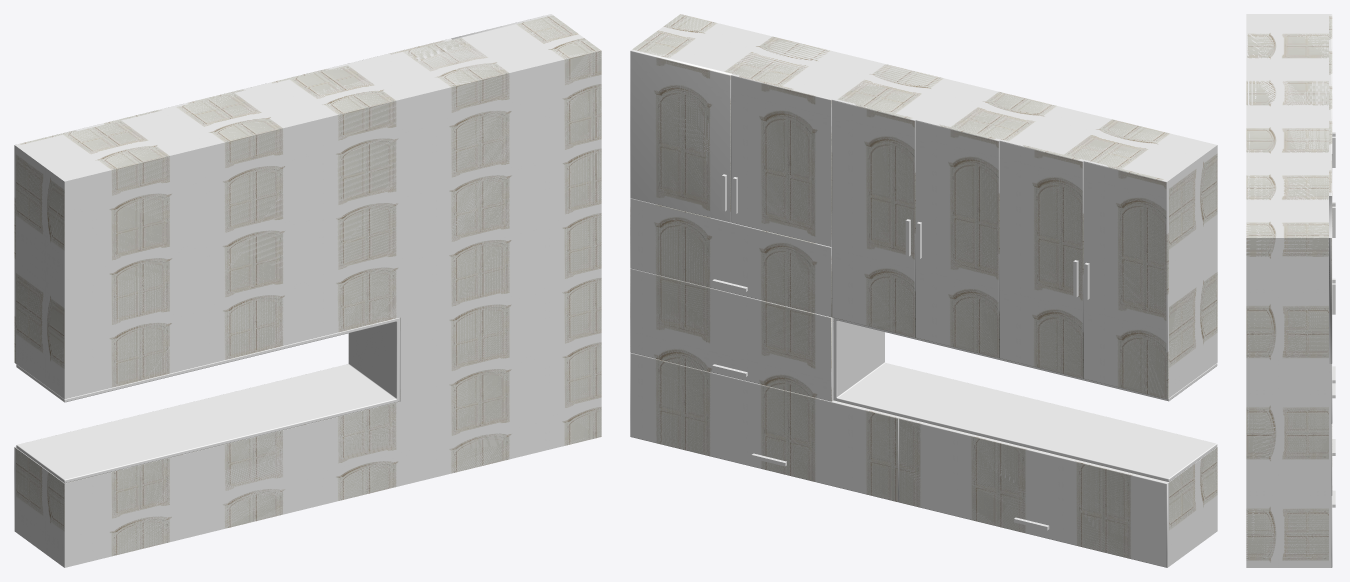
The picture shows the model from 3 angles, left to right: view 1: azimuth 30°, elevation 25°; view 2: azimuth 150°, elevation 25°; view 3: azimuth 270°, elevation 25°; orthographic projection. The views are drawn at different scales.
Visible parts, largest first — view 1: mesh7_mesh7-geometry, mesh8_mesh8-geometry, mesh13_mesh13-geometry; view 2: mesh13_mesh13-geometry, mesh7_mesh7-geometry, mesh2_mesh2-geometry, mesh1_mesh1-geometry, mesh8_mesh8-geometry, mesh3_mesh3-geometry, mesh4_mesh4-geometry, mesh5_mesh5-geometry, mesh6_mesh6-geometry, mesh11_mesh11-geometry; view 3: mesh7_mesh7-geometry, mesh11_mesh11-geometry, mesh4_mesh4-geometry, mesh13_mesh13-geometry, mesh1_mesh1-geometry, mesh3_mesh3-geometry, mesh6_mesh6-geometry, mesh5_mesh5-geometry.
Part boxes in pixels (bbox=[...]): mesh7_mesh7-geometry: bbox=[16, 15, 601, 567]; mesh8_mesh8-geometry: bbox=[16, 317, 399, 483]; mesh13_mesh13-geometry: bbox=[14, 63, 351, 363]; mesh13_mesh13-geometry: bbox=[831, 98, 1168, 399]; mesh7_mesh7-geometry: bbox=[632, 14, 1217, 566]; mesh2_mesh2-geometry: bbox=[899, 417, 1168, 567]; mesh1_mesh1-geometry: bbox=[630, 352, 899, 502]; mesh8_mesh8-geometry: bbox=[833, 318, 1217, 481]; mesh3_mesh3-geometry: bbox=[630, 268, 833, 401]; mesh4_mesh4-geometry: bbox=[630, 49, 732, 222]; mesh5_mesh5-geometry: bbox=[731, 74, 832, 246]; mesh6_mesh6-geometry: bbox=[630, 198, 831, 317]; mesh11_mesh11-geometry: bbox=[712, 174, 1089, 530]; mesh7_mesh7-geometry: bbox=[1246, 14, 1328, 567]; mesh11_mesh11-geometry: bbox=[1332, 132, 1335, 507]; mesh4_mesh4-geometry: bbox=[1329, 196, 1332, 363]; mesh13_mesh13-geometry: bbox=[1329, 14, 1332, 153]; mesh1_mesh1-geometry: bbox=[1329, 496, 1332, 567]; mesh3_mesh3-geometry: bbox=[1329, 424, 1332, 495]; mesh6_mesh6-geometry: bbox=[1329, 364, 1332, 423]; mesh5_mesh5-geometry: bbox=[1329, 154, 1332, 195].
Size of the model in its own units: 0.8162 by 0.5611 by 0.1377.
